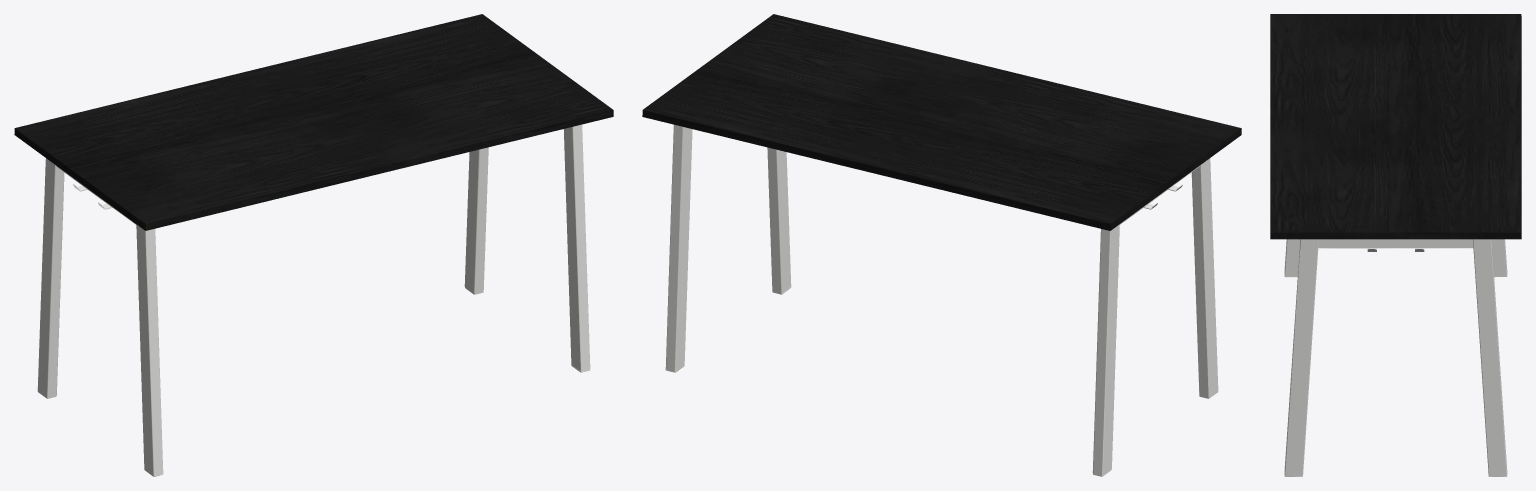
Rendered from 94 - MITTZON - 會議桌, 黑色實木貼皮 梣木白色, 140x68x75 公分 IKEA 線上購物.glb.
3 views of the same model, side by side, from view 1: azimuth 30°, elevation 25°; view 2: azimuth 150°, elevation 25°; view 3: azimuth 270°, elevation 25° (orthographic). The views are drawn at different scales.
Visible parts, largest first — view 1: 10544572; view 2: 10544572; view 3: 10544572.
Part boxes in pixels (bbox=[...]): 10544572: bbox=[14, 14, 613, 476]; 10544572: bbox=[642, 14, 1241, 476]; 10544572: bbox=[1270, 14, 1521, 476].
Size of the model in its own units: 1.4 by 0.75 by 0.679.
1 material, 1 textured.
